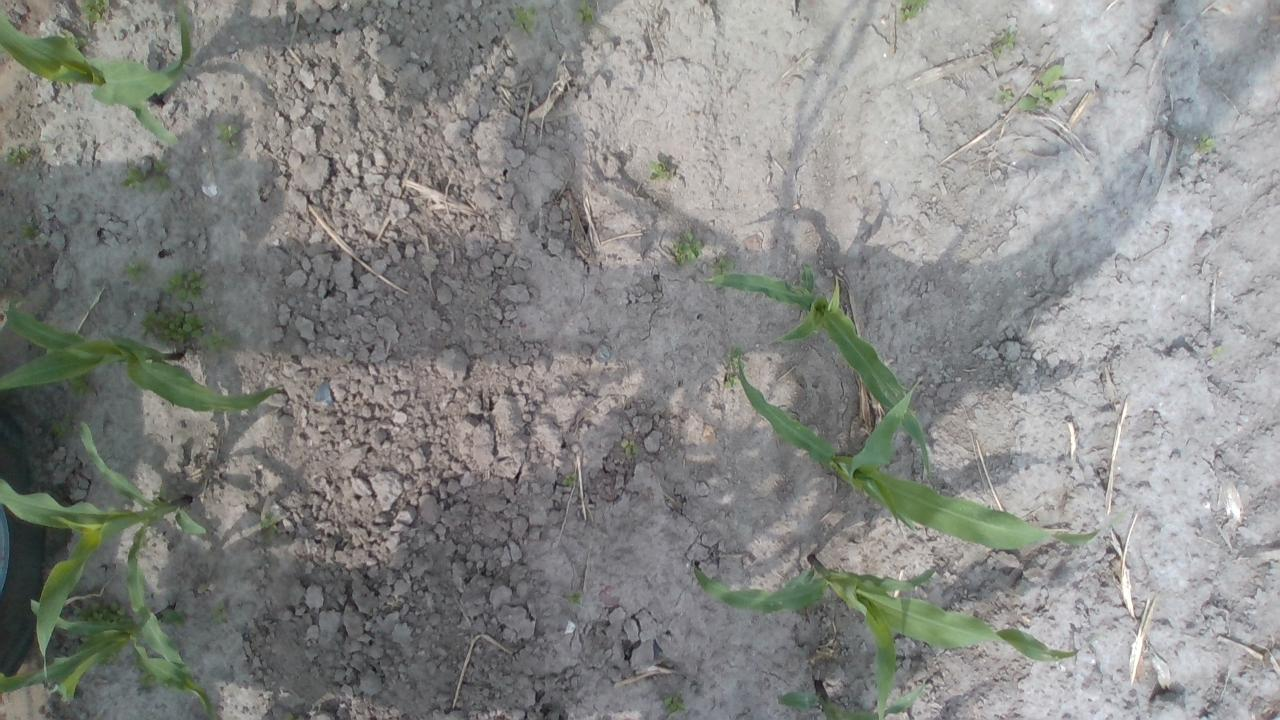Maize: (732, 352, 1127, 548), (687, 551, 1101, 720), (0, 422, 205, 682), (696, 259, 935, 480), (0, 295, 283, 414), (0, 0, 193, 146), (0, 597, 219, 720), (780, 678, 926, 720)
Weeds: (140, 306, 206, 344), (1019, 66, 1066, 110), (70, 599, 134, 626), (162, 264, 205, 304), (672, 229, 702, 265), (721, 346, 744, 388), (512, 5, 541, 38), (50, 410, 80, 440), (205, 326, 235, 355), (119, 164, 148, 194), (216, 120, 241, 154), (124, 258, 152, 286), (64, 375, 98, 398), (150, 160, 172, 194), (79, 0, 109, 24), (896, 0, 928, 22), (991, 31, 1017, 58), (662, 689, 688, 716), (56, 27, 86, 49), (260, 512, 282, 542), (574, 0, 598, 27), (646, 158, 674, 180), (99, 647, 125, 668), (1194, 131, 1217, 154), (710, 254, 735, 275), (2, 146, 28, 166), (212, 600, 228, 625), (995, 86, 1014, 106), (20, 222, 40, 241), (620, 437, 638, 455), (136, 672, 154, 690), (75, 632, 97, 646), (570, 591, 585, 608), (158, 483, 172, 501), (1210, 344, 1224, 359), (562, 473, 578, 486), (284, 712, 300, 720)
